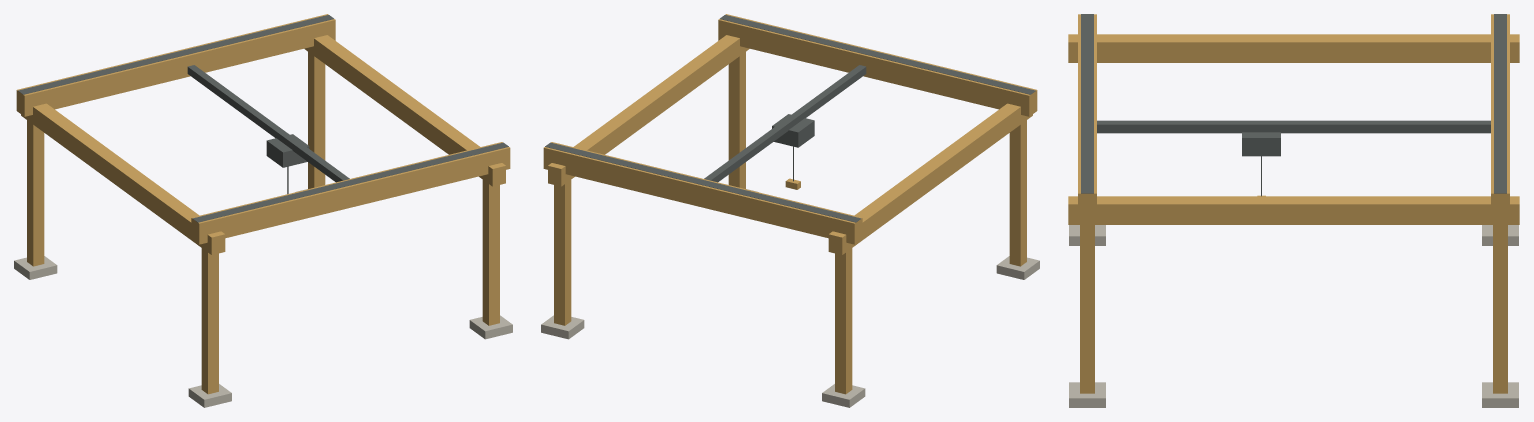
Rendered from freight-gantry.glb.
The picture shows the model from 3 angles, left to right: view 1: azimuth 30°, elevation 25°; view 2: azimuth 150°, elevation 25°; view 3: azimuth 270°, elevation 25°; orthographic projection. The views are drawn at different scales.
Parts seen in each view (by area): view 1: freight-gantry:yellowPaint, freight-gantry:darkSteel, freight-gantry:concrete; view 2: freight-gantry:yellowPaint, freight-gantry:darkSteel, freight-gantry:concrete; view 3: freight-gantry:yellowPaint, freight-gantry:darkSteel, freight-gantry:concrete.
Part boxes in pixels (x1,y1,x2,y2): freight-gantry:yellowPaint: (16, 14, 510, 394); freight-gantry:darkSteel: (18, 15, 508, 222); freight-gantry:concrete: (14, 189, 512, 407); freight-gantry:yellowPaint: (543, 14, 1037, 394); freight-gantry:darkSteel: (545, 15, 1035, 222); freight-gantry:concrete: (541, 189, 1039, 407); freight-gantry:yellowPaint: (1068, 14, 1519, 393); freight-gantry:darkSteel: (1081, 14, 1506, 196); freight-gantry:concrete: (1069, 225, 1518, 407).
Bounding box in the file's own units: 14.4 × 8.06 × 15.3.
